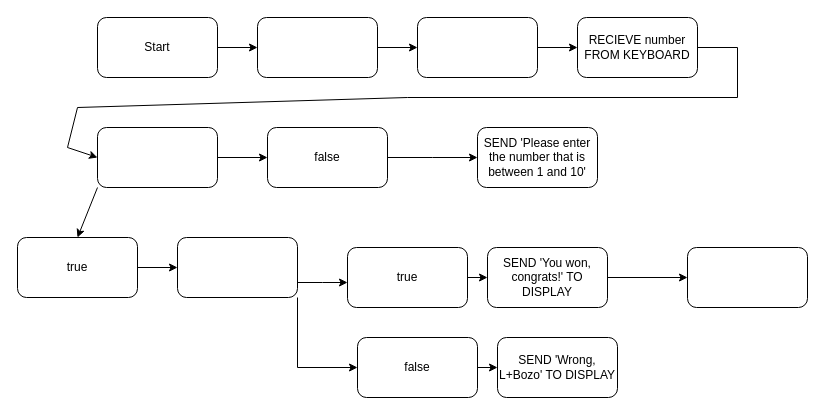
This 825x415 diagram has some shape labels left out. Here are the shapes that lost their labels. From the top down, the centre of each, then its label:
At point (317, 47): "Set answer TO '3'".
At point (477, 47): "SEND 'Please enter a number' TO DISPLAY".
At point (157, 157): "IF number>1 and number<10".
At point (237, 267): "IF number = 3".
At point (747, 277): "BREAK LOOP".
